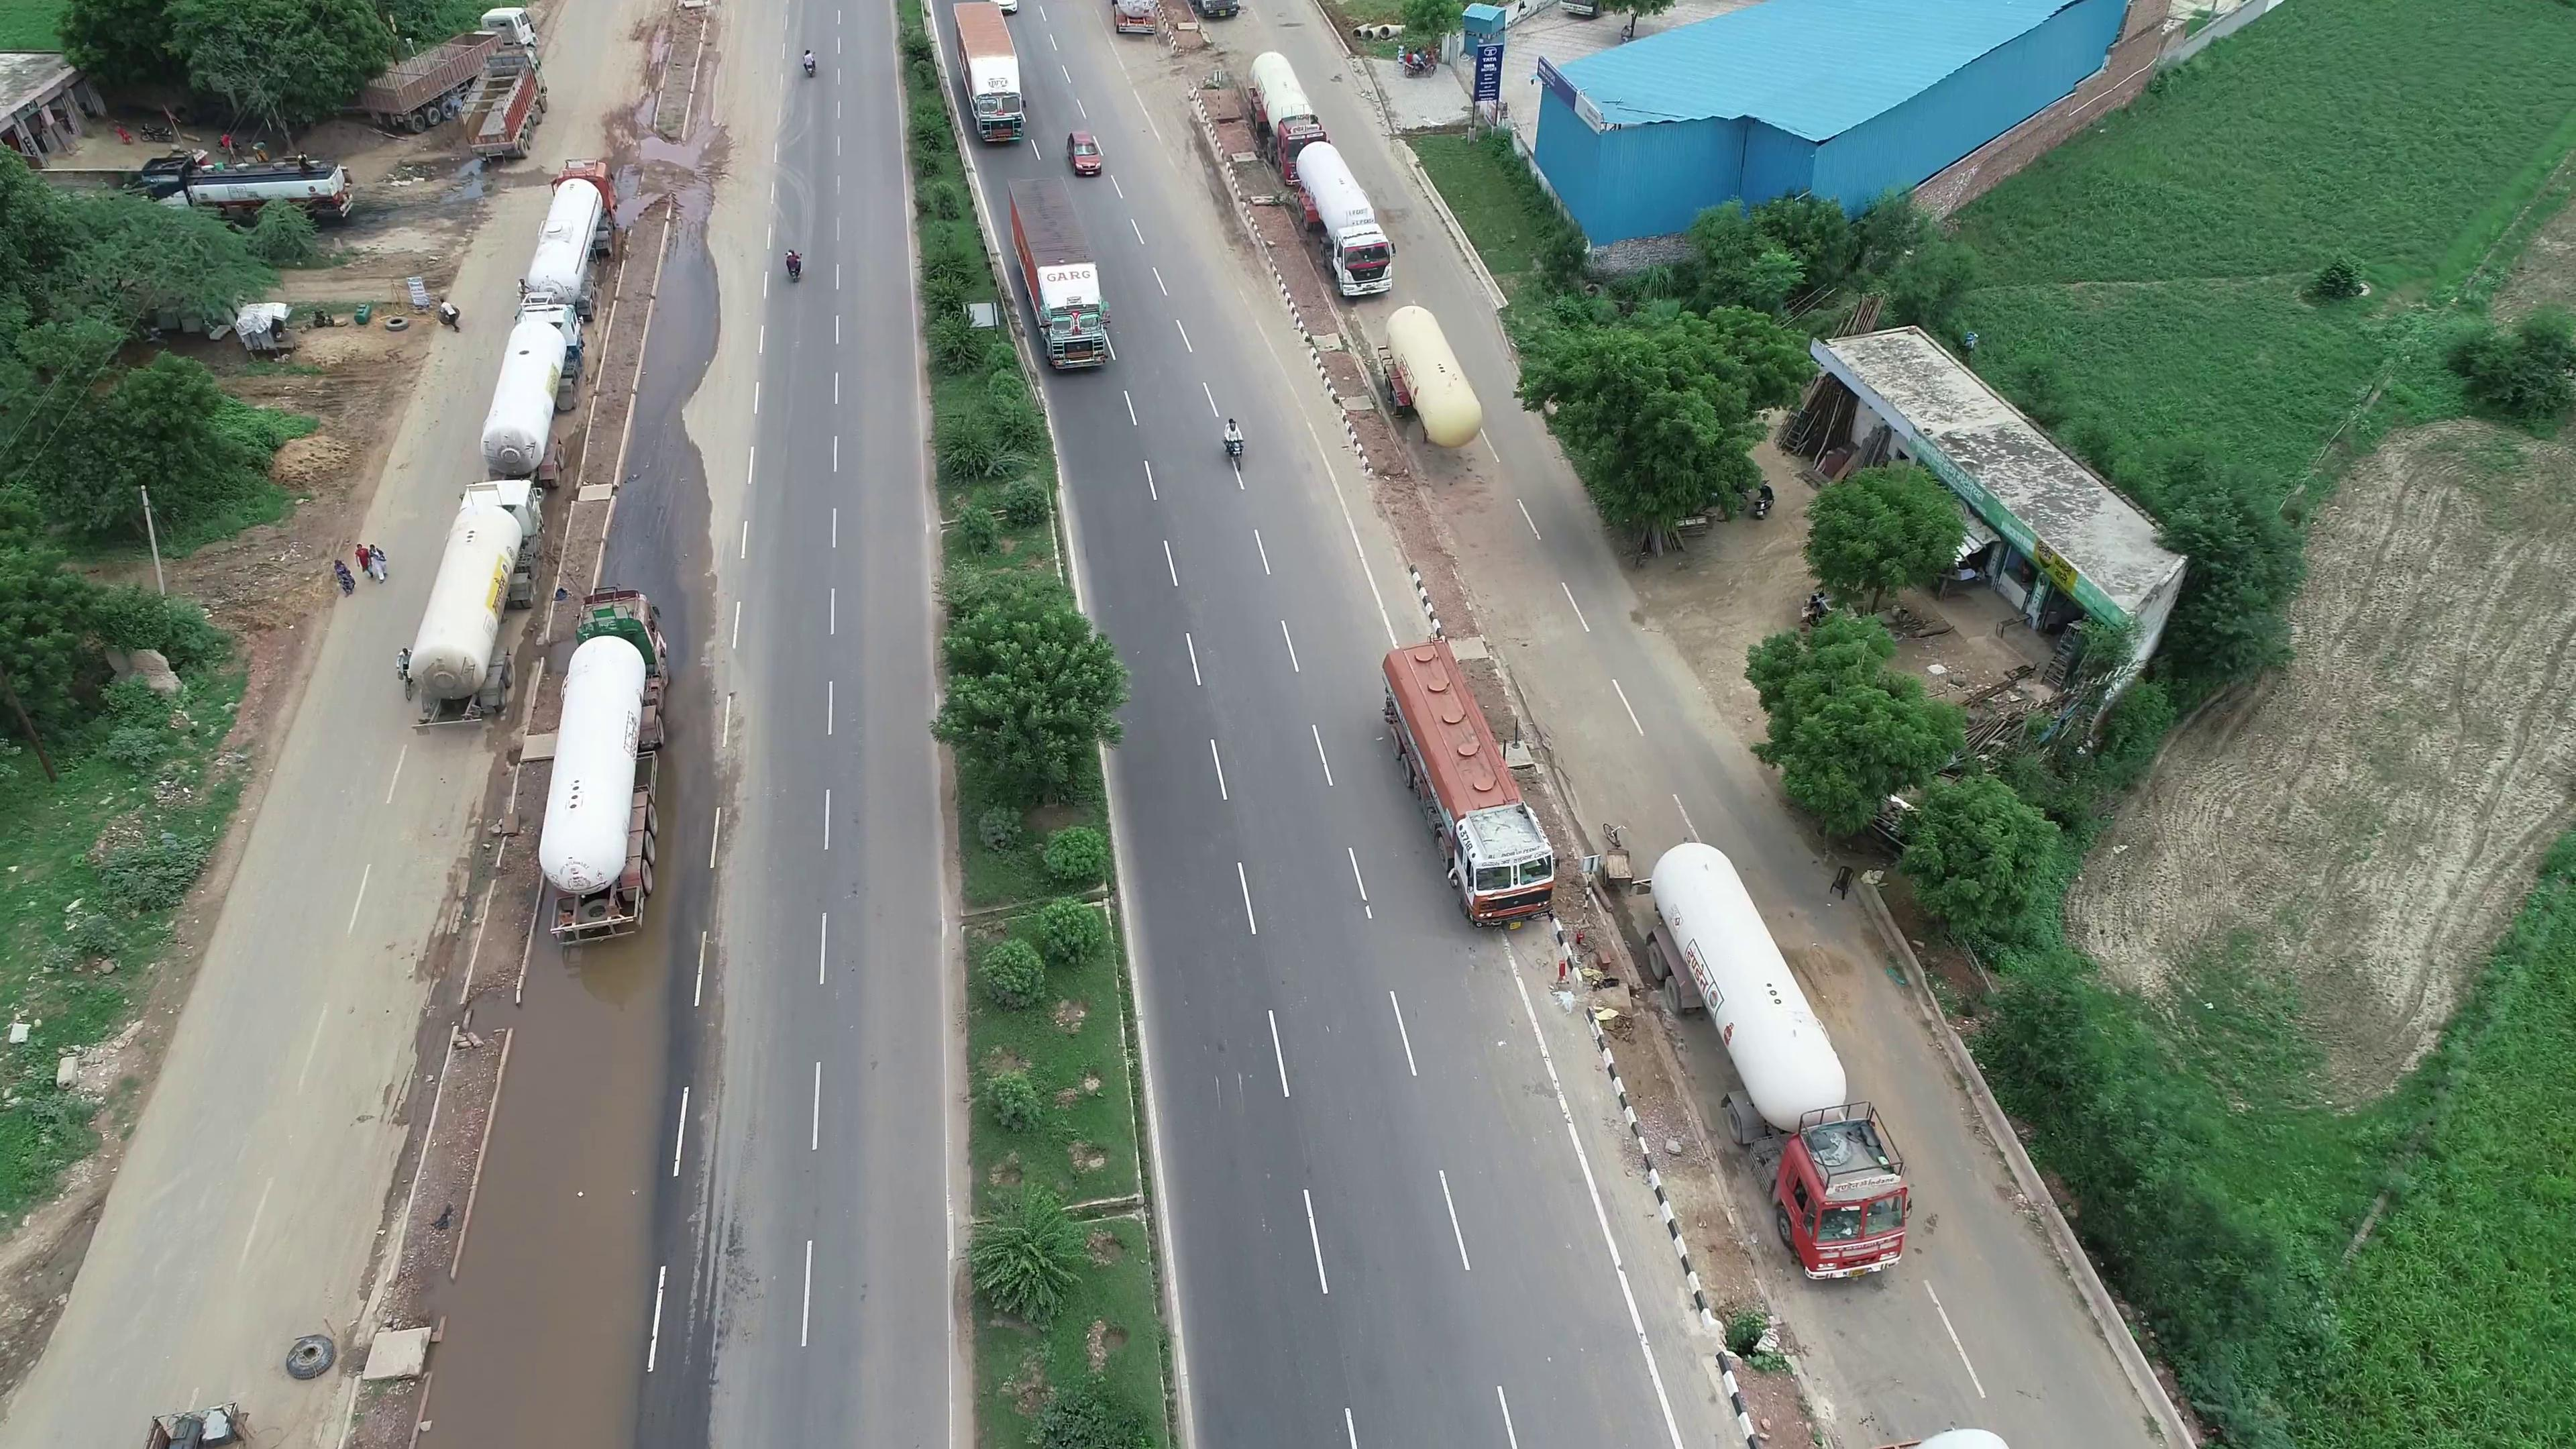Waterlogging: (448, 1146, 667, 1435)
